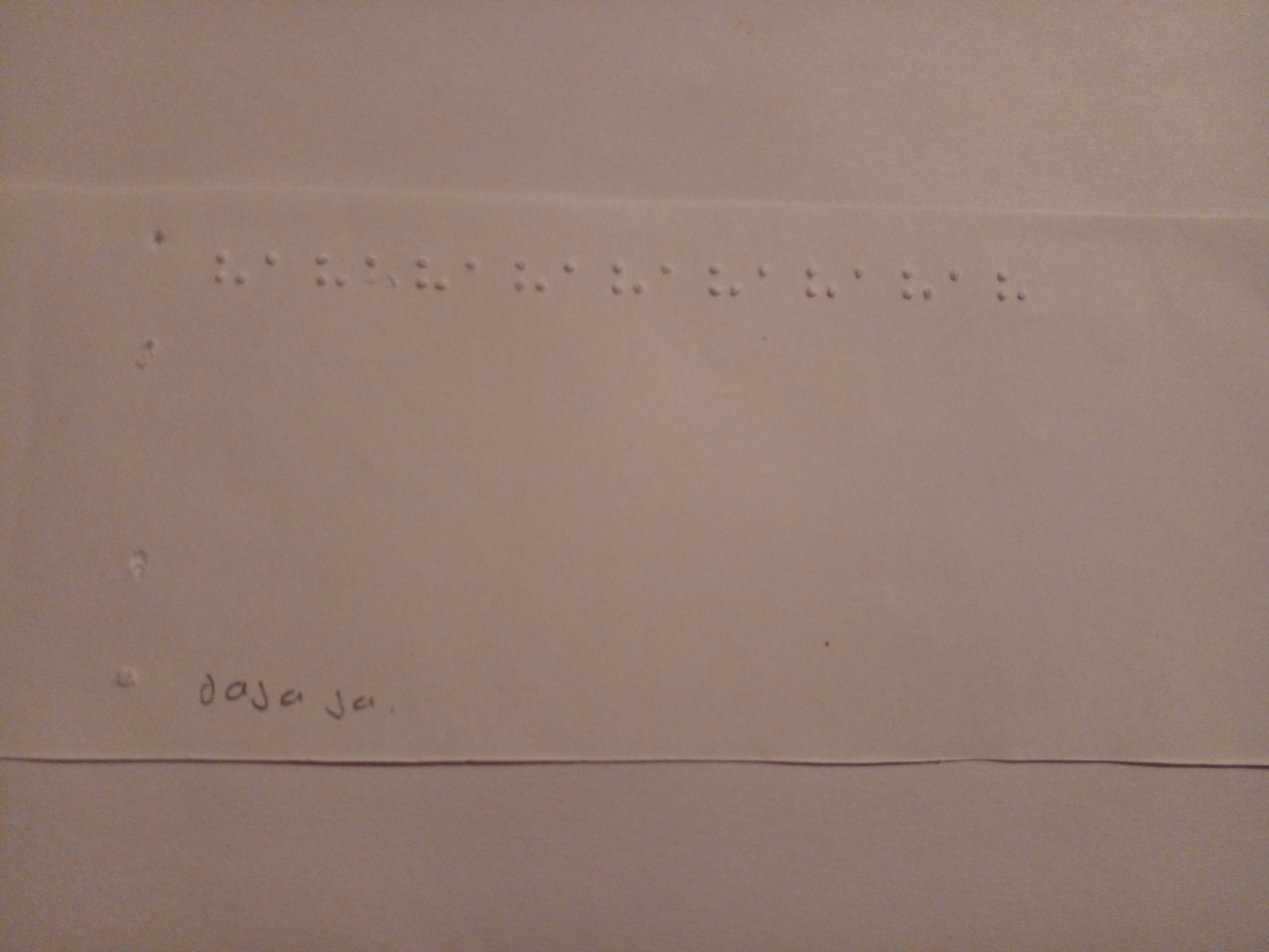a: (345, 225, 397, 308), (256, 236, 301, 321), (452, 232, 485, 318), (649, 239, 686, 311), (838, 246, 878, 307), (753, 246, 785, 311), (556, 234, 584, 305), (942, 257, 970, 301)
j: (299, 226, 364, 325), (401, 240, 455, 318), (204, 231, 256, 310), (702, 245, 750, 330), (499, 248, 556, 315), (987, 253, 1036, 325), (603, 246, 648, 321), (798, 248, 838, 324), (894, 256, 936, 321)
